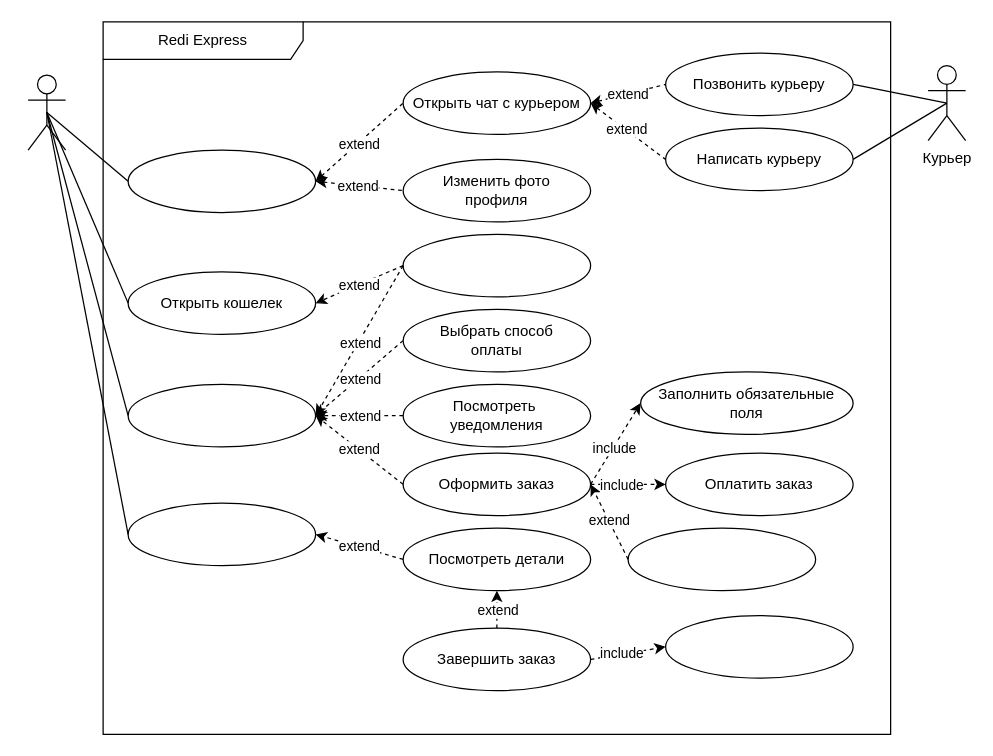
Some shapes in this 993 by 756 pixel diagram are drawn without their labels. The shapes that lost their labels are listed below. From the top down, each one's centre as x and y in pixels, then its label:
(x=46, y=112): Клиент
(x=221, y=180): Открыть Главное
(x=496, y=265): Скрыть баланс
(x=221, y=415): Открыть профиль
(x=221, y=534): Открыть ослеживание последнего заказа
(x=721, y=559): Изменить детали заказа
(x=758, y=646): Оценить доставку
